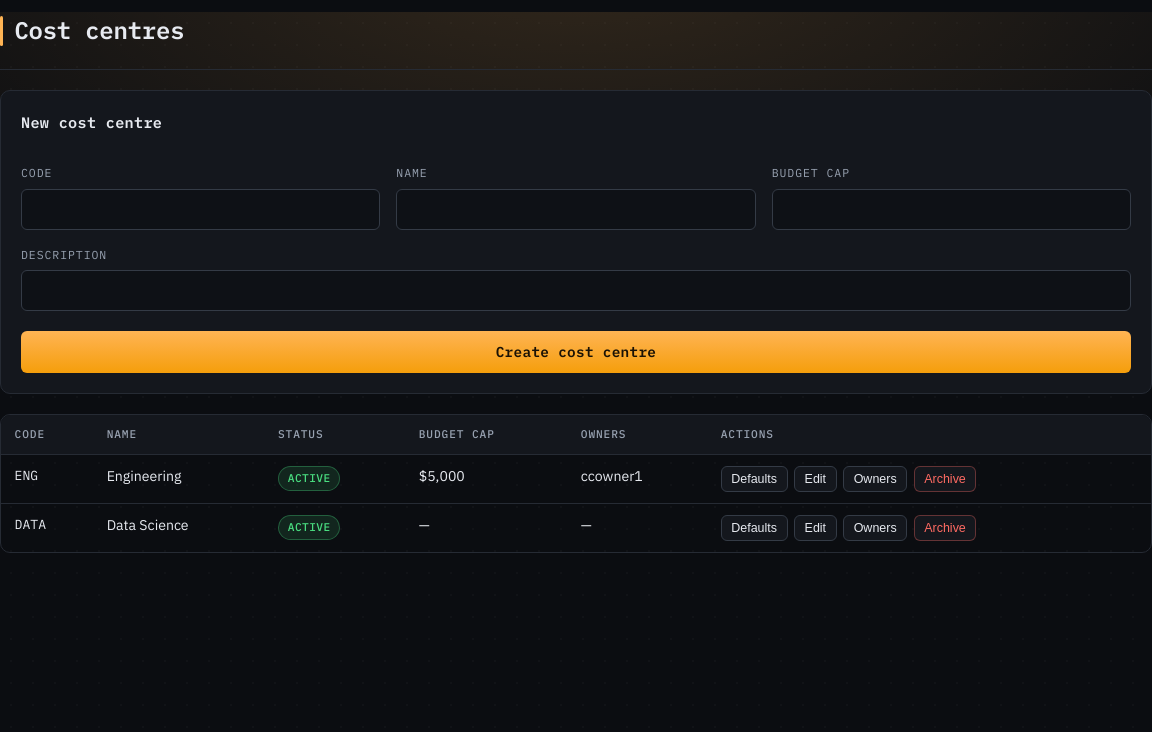
CostCentresPage › adds a row when an admin creates a cost centre
The width and height of the screenshot is (1152, 732).
Expected: the text "Engineering" is shown, [93,455,264,504]
Type "MKT" into the field labelled "Code".
click(201, 209); type("MKT")  # box [21,189,380,230]
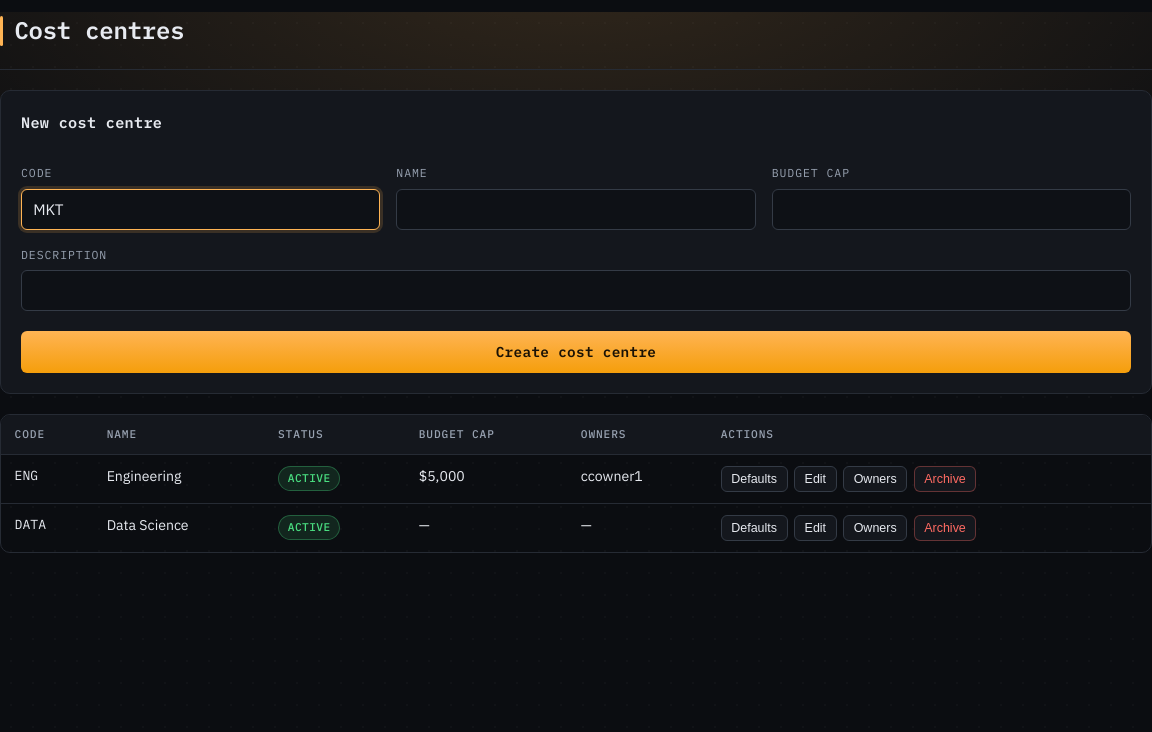
Type "Marketing" into the field labelled "Name".
click(576, 209); type("Marketing")  # box [396,189,756,230]
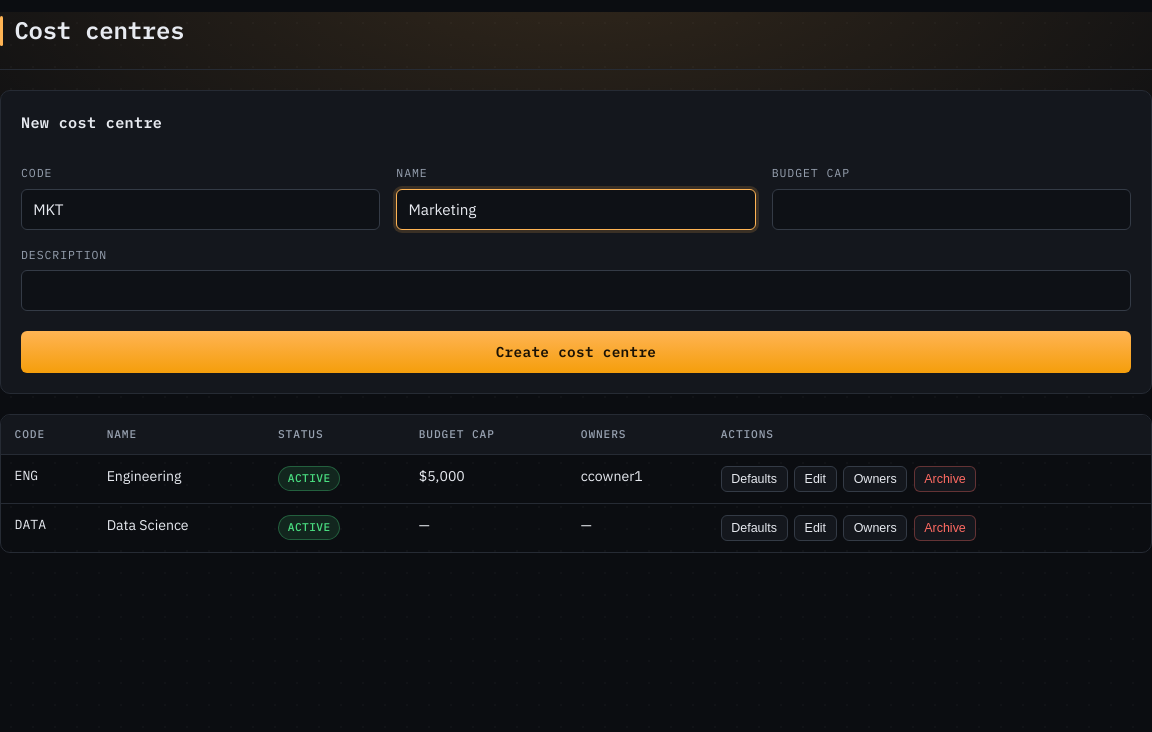
Click the button "Create cost centre".
click(576, 352)  # box [21,331,1131,373]
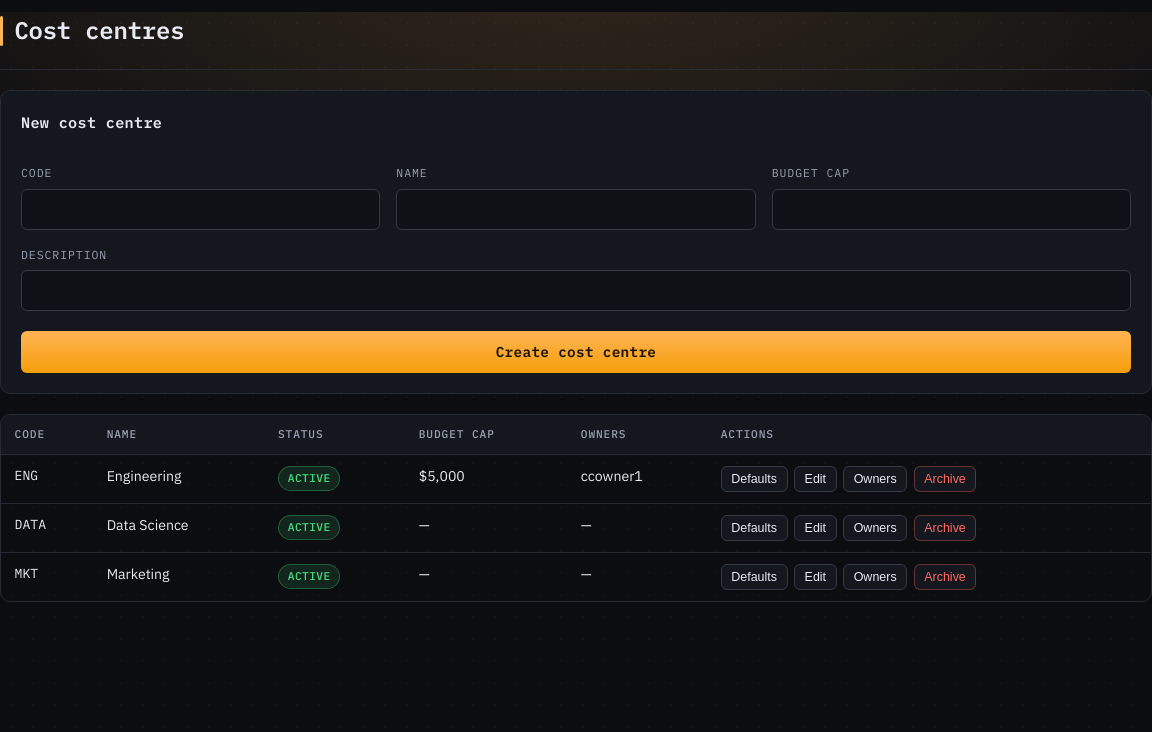
Now the text "Marketing" is shown, box [93,553,264,601]
Now the text "MKT" is shown, box [1,553,93,601]
